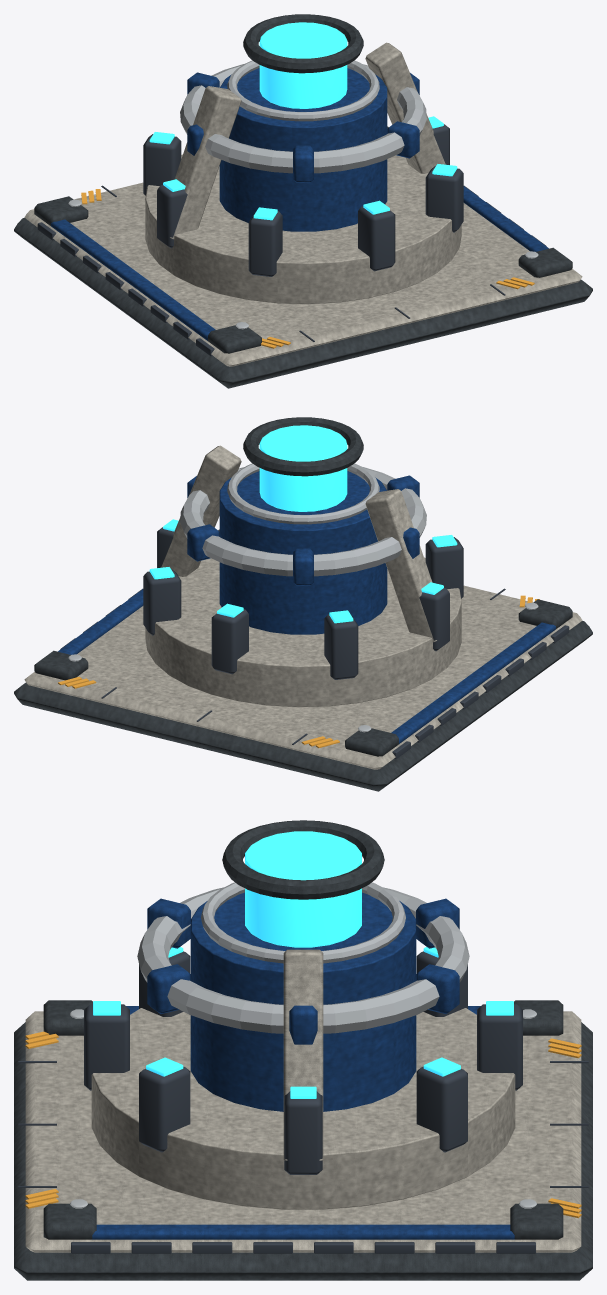
The model's file is solis_reacteur_solaire.gltf.
The picture shows the model from 3 angles, top to bottom: view 1: azimuth 30°, elevation 25°; view 2: azimuth 150°, elevation 25°; view 3: azimuth 270°, elevation 25°; orthographic projection. The views are drawn at different scales.
Parts seen in each view (by area): view 1: Building.011_Geometry, Rotor_0_Geometry; view 2: Building.011_Geometry, Rotor_0_Geometry; view 3: Building.011_Geometry, Rotor_0_Geometry.
Part boxes in pixels (x1,y1,x2,y2): Building.011_Geometry: (14, 14, 592, 388); Rotor_0_Geometry: (180, 64, 426, 182); Building.011_Geometry: (14, 417, 592, 791); Rotor_0_Geometry: (180, 467, 426, 585); Building.011_Geometry: (14, 820, 592, 1280); Rotor_0_Geometry: (137, 887, 469, 1044).
Bounding box in the file's own units: 3.92 × 2.34 × 3.92.
Materials: 7 (3 with a texture image).
